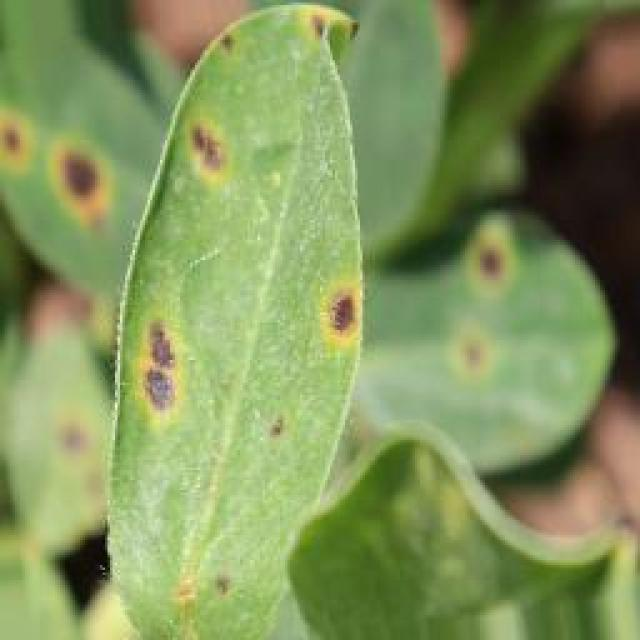Sigatoka: (305, 275, 386, 377), (127, 324, 195, 422), (176, 117, 236, 193), (50, 147, 106, 221), (458, 212, 501, 301), (448, 313, 497, 381), (0, 107, 42, 159), (267, 406, 303, 456), (302, 0, 332, 54)
